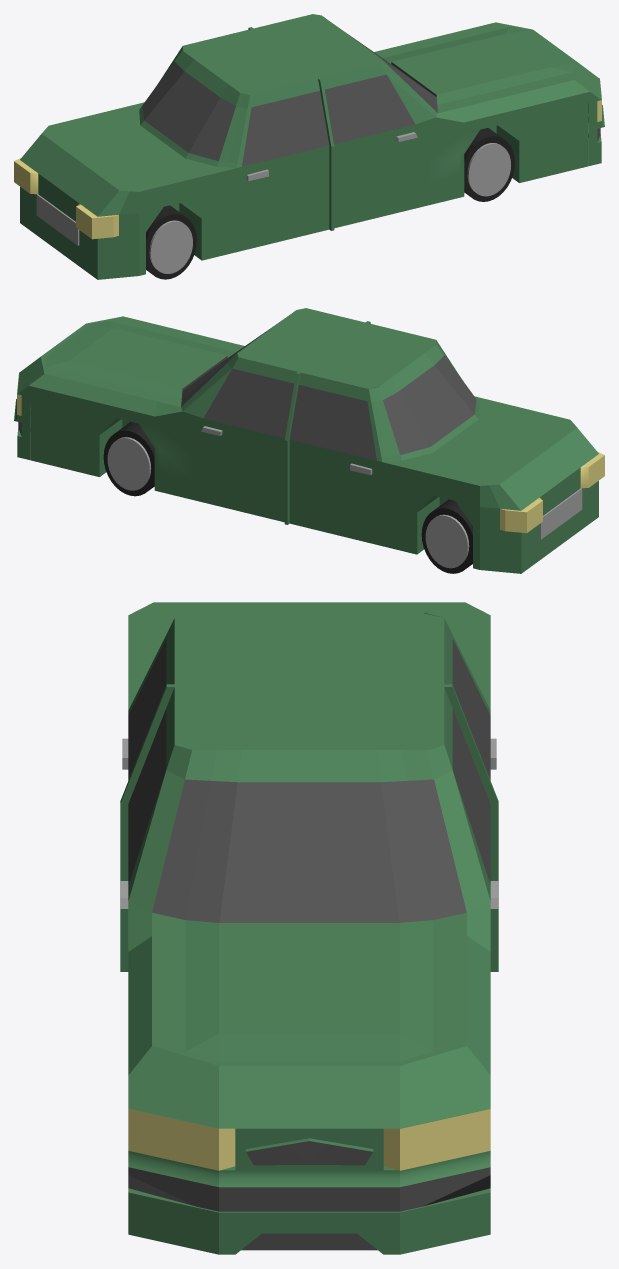
File: Car_2.fbx
3 renders of one model, top to bottom at view 1: azimuth 30°, elevation 25°; view 2: azimuth 150°, elevation 25°; view 3: azimuth 270°, elevation 25°, orthographic. The views are drawn at different scales.
Parts seen in each view (by area): view 1: Base_Car_2, Cylinder_2.3, Cylinder_2.4; view 2: Base_Car_2, Cylinder_2.1, Cylinder_2.2; view 3: Base_Car_2.
Part boxes in pixels (left/top/right/bottom): Base_Car_2: left=14, top=14, right=604, bottom=279; Cylinder_2.3: left=464, top=128, right=514, bottom=201; Cylinder_2.4: left=146, top=205, right=196, bottom=279; Base_Car_2: left=14, top=308, right=604, bottom=573; Cylinder_2.1: left=103, top=422, right=154, bottom=496; Cylinder_2.2: left=421, top=499, right=472, bottom=573; Base_Car_2: left=120, top=602, right=498, bottom=1254.
Size of the model in its own units: 3771 by 1067 by 1171.
